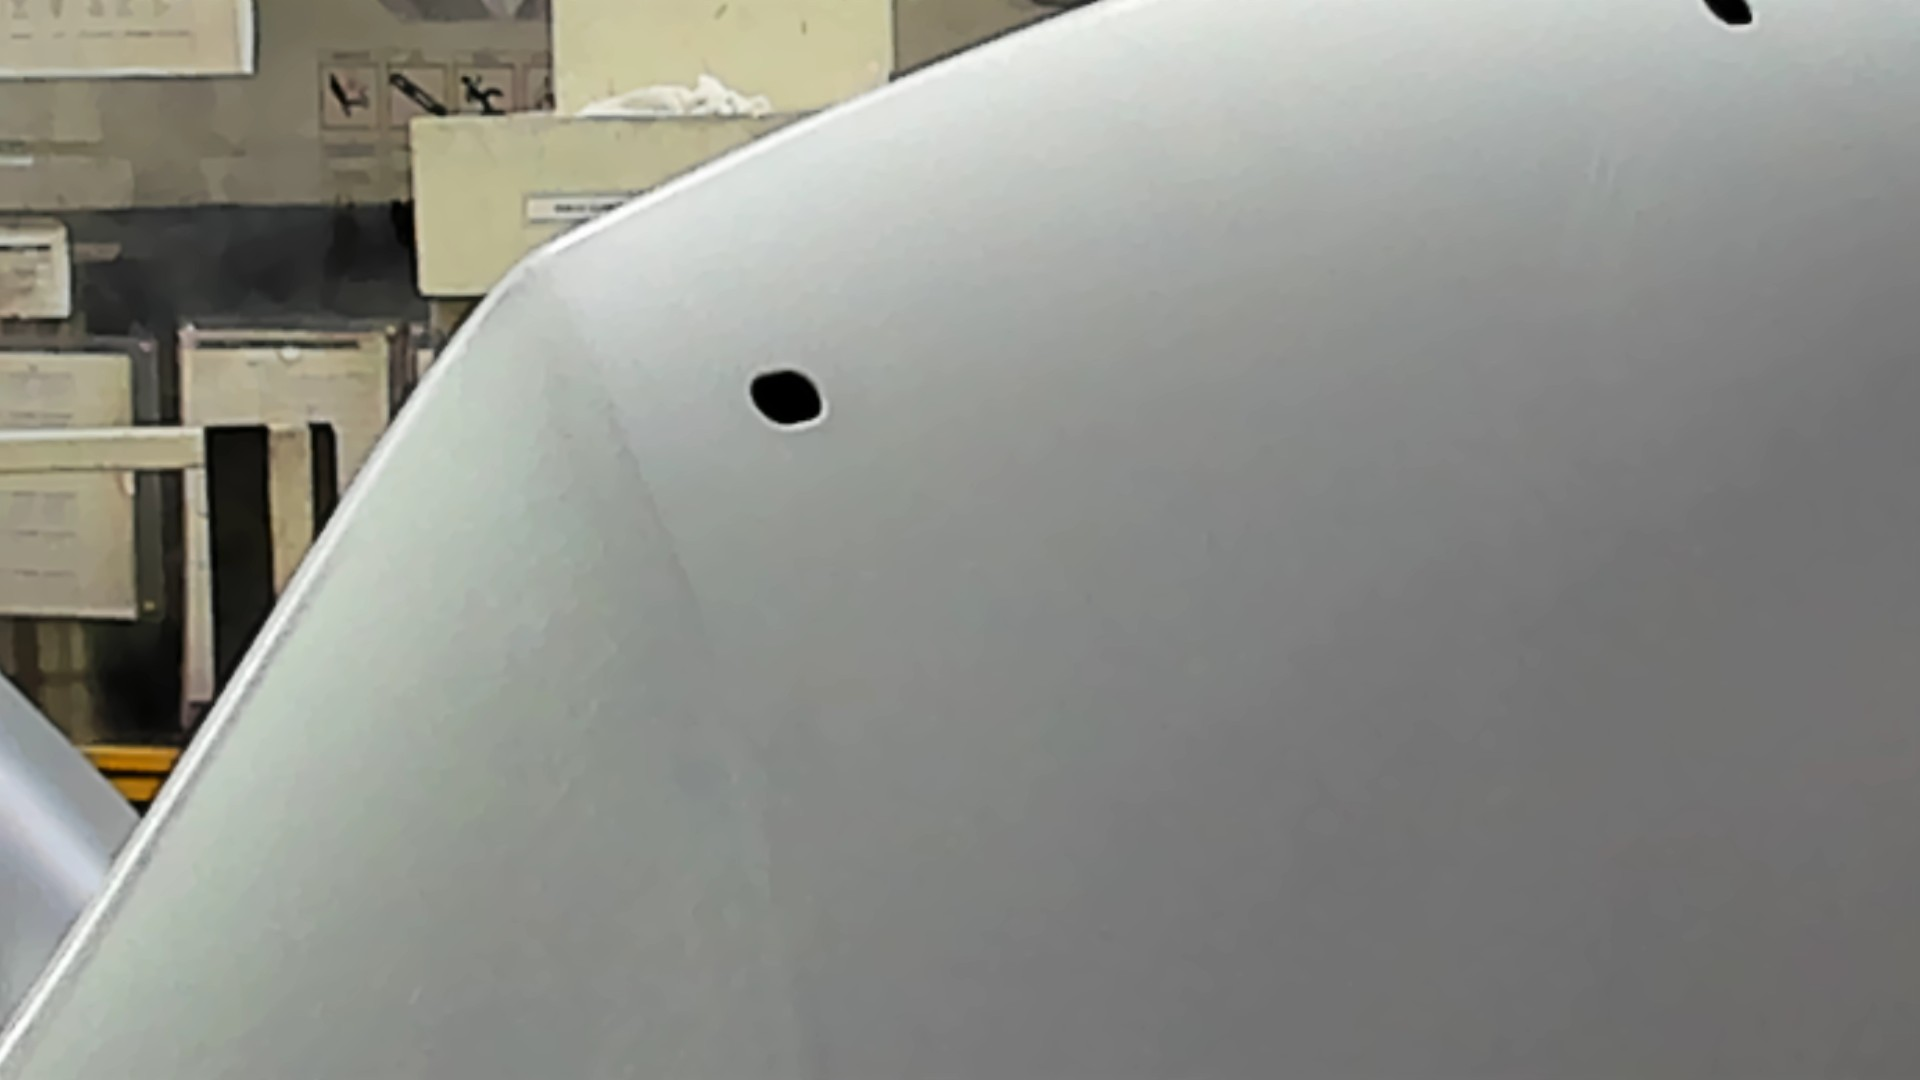amorfo: (742, 361, 827, 435), (1697, 1, 1759, 36)
